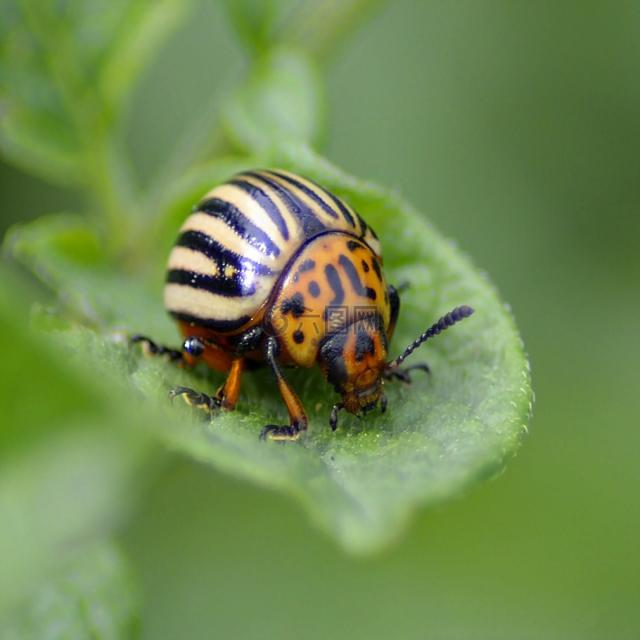ShuCaiHuaBanChong-Grown-: (144, 158, 436, 447)
